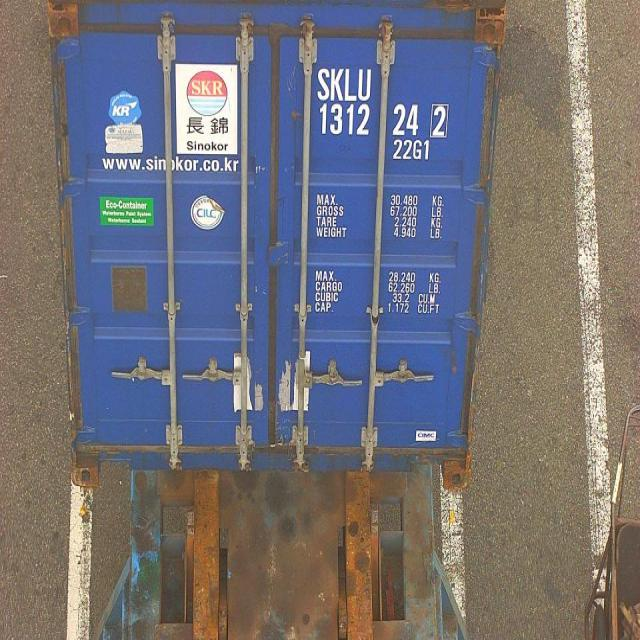ISO: (394, 140, 429, 160)
container_number: (322, 66, 448, 137)
